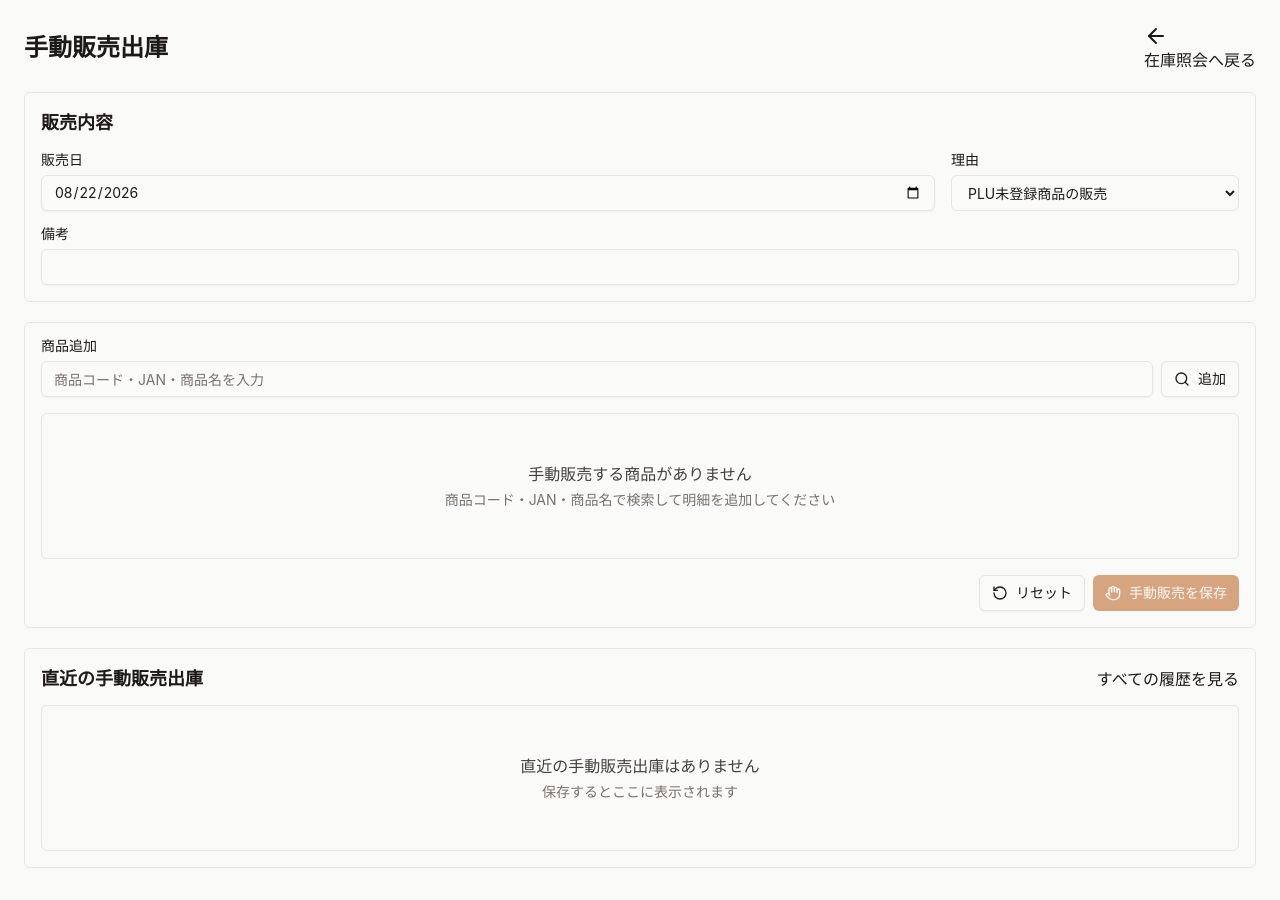
Test case: ManualSalePage (UI-04 / REQ-203) › REQ-203 blocks invalid quantity and amount before submit
Type "MS-001" into the dropdown named "手動販売商品検索" at (597,379), box left=41, top=361, right=1153, bottom=397
Then press Enter
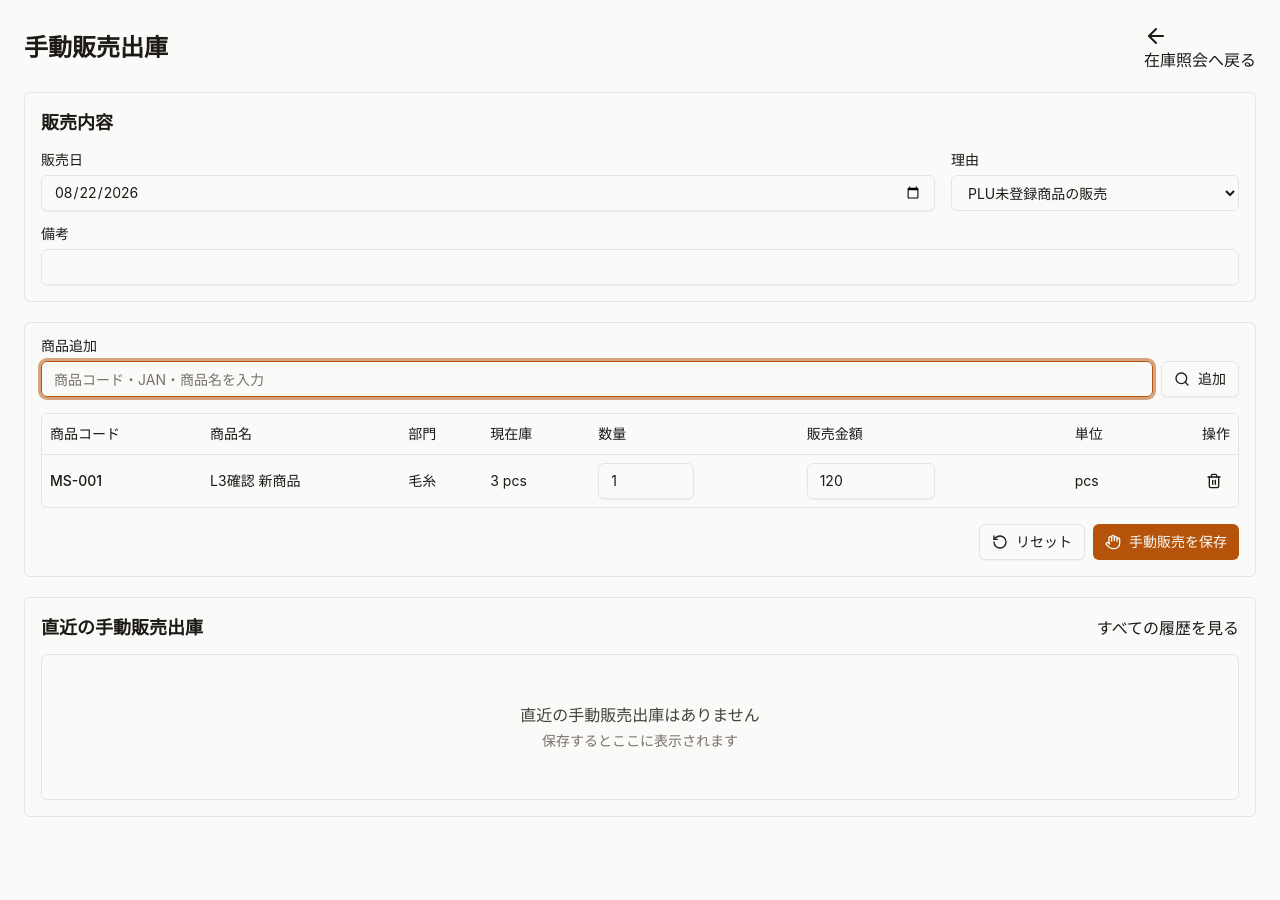
Result: the text "MS-001" is shown at left=42, top=454, right=202, bottom=506
Replace the text in the number field named "MS-001 の数量" with "1.5" at (646,480), box left=598, top=462, right=694, bottom=498
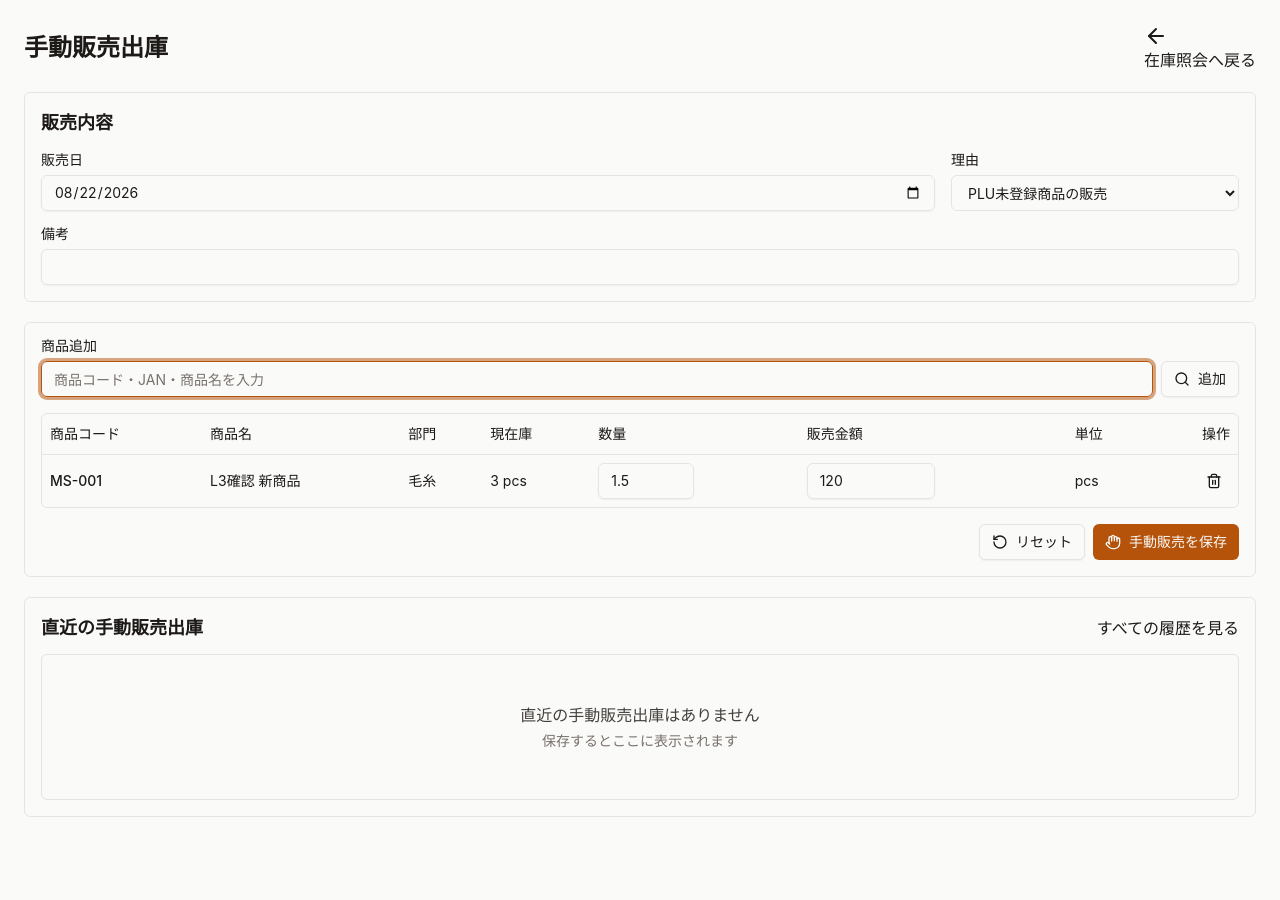
Replace the text in the number field named "MS-001 の販売金額" with "-1" at (871,480), box left=807, top=462, right=935, bottom=498
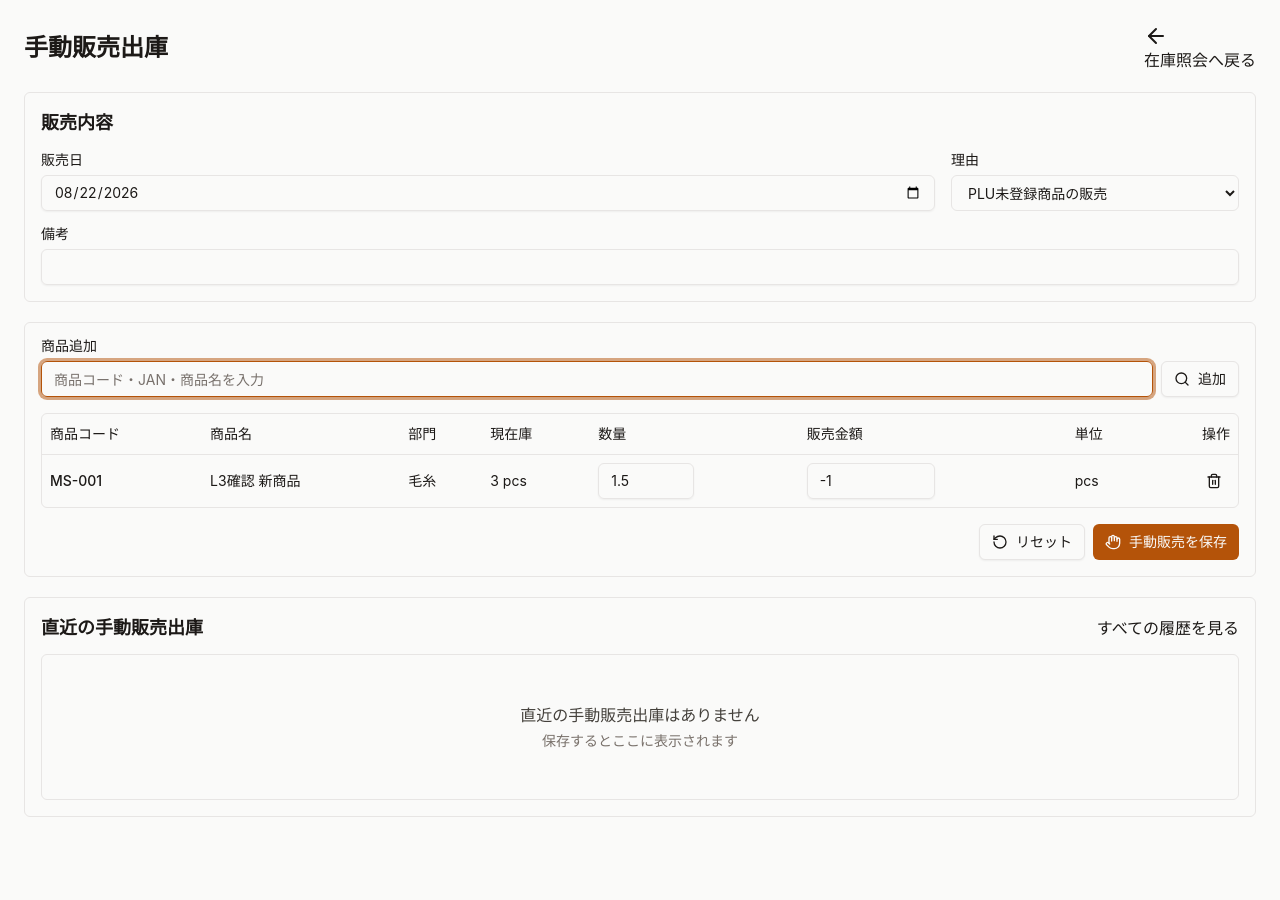
Click the button "手動販売を保存" at (1166,542), box left=1093, top=524, right=1239, bottom=560
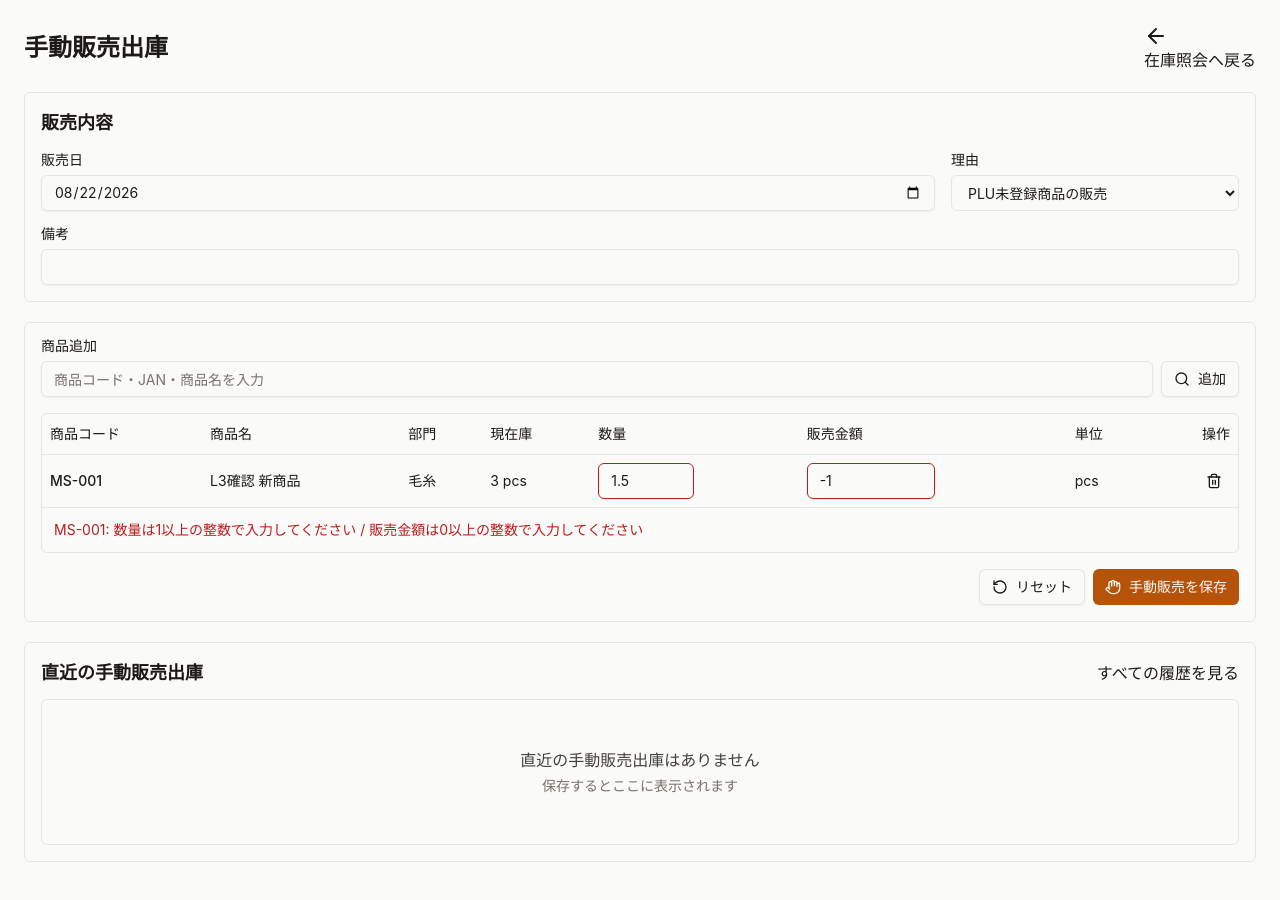
Result: the text "MS-001: 数量は1以上の整数で入力してください / 販売金額は0以上の整数で入力してください" is shown at left=54, top=520, right=643, bottom=538
